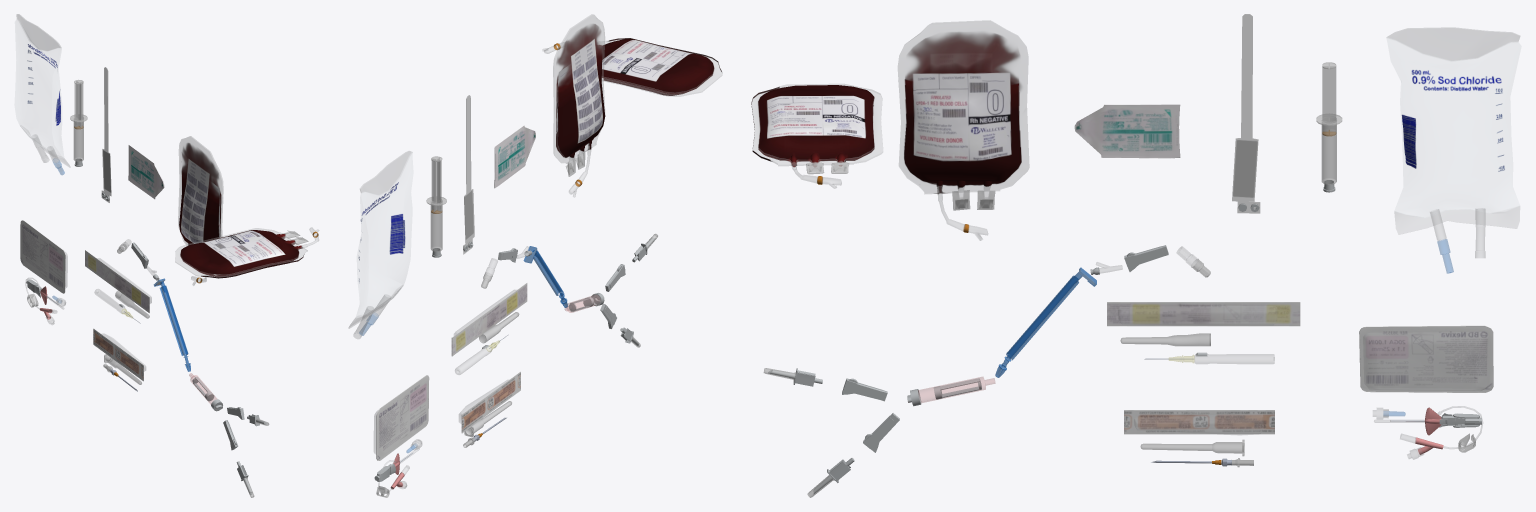
File: iv_supplies.glb
The picture shows the model from 3 angles, left to right: view 1: azimuth 30°, elevation 25°; view 2: azimuth 150°, elevation 25°; view 3: azimuth 270°, elevation 25°; orthographic projection. The views are drawn at different scales.
Parts seen in each view (by area): view 1: Blood_Bag_flat, Blood_Bag_Hang, package, WaterBag, Package_7x19, sticker_package, Package_57, Wristband, Tube, Brace, Pusher, Filter; view 2: Blood_Bag_Hang, Blood_Bag_flat, package, WaterBag, Package_7x19, sticker_package, Package_57, Wristband, Tube, Pusher, Filter, Brace (+1 smaller); view 3: Blood_Bag_Hang, Blood_Bag_flat, package, WaterBag, sticker_package, Package_7x19, Package_57, Wristband, Tube, Filter, Pusher, Brace (+4 smaller).
Part boxes in pixels (<box>): Blood_Bag_flat: <box>175,227,319,278</box>; Blood_Bag_Hang: <box>178,136,223,285</box>; package: <box>20,220,67,293</box>; WaterBag: <box>16,14,70,174</box>; Package_7x19: <box>85,250,151,313</box>; sticker_package: <box>128,145,164,199</box>; Package_57: <box>93,328,145,381</box>; Wristband: <box>101,67,111,202</box>; Tube: <box>70,114,87,166</box>; Brace: <box>159,285,188,355</box>; Pusher: <box>74,79,83,129</box>; Filter: <box>189,373,222,411</box>; Blood_Bag_Hang: <box>553,14,605,197</box>; Blood_Bag_flat: <box>542,38,722,96</box>; package: <box>374,375,429,460</box>; WaterBag: <box>348,151,412,338</box>; Package_7x19: <box>451,283,527,356</box>; sticker_package: <box>494,125,535,188</box>; Package_57: <box>459,371,520,433</box>; Wristband: <box>463,95,474,254</box>; Tube: <box>426,197,446,257</box>; Pusher: <box>431,156,442,213</box>; Filter: <box>564,293,604,312</box>; Brace: <box>533,250,564,296</box>; Blood_Bag_Hang: <box>898,20,1029,240</box>; Blood_Bag_flat: <box>751,84,882,188</box>; package: <box>1359,325,1493,392</box>; WaterBag: <box>1386,27,1520,273</box>; sticker_package: <box>1074,104,1180,158</box>; Package_7x19: <box>1107,302,1300,326</box>; Package_57: <box>1124,410,1274,435</box>; Wristband: <box>1232,14,1260,213</box>; Tube: <box>1316,114,1342,192</box>; Filter: <box>907,377,995,406</box>; Pusher: <box>1322,62,1336,136</box>; Brace: <box>1006,275,1078,360</box>.
Size of the model in its own units: 0.4418 by 0.9673 by 1.4.
1 material, 1 textured.
